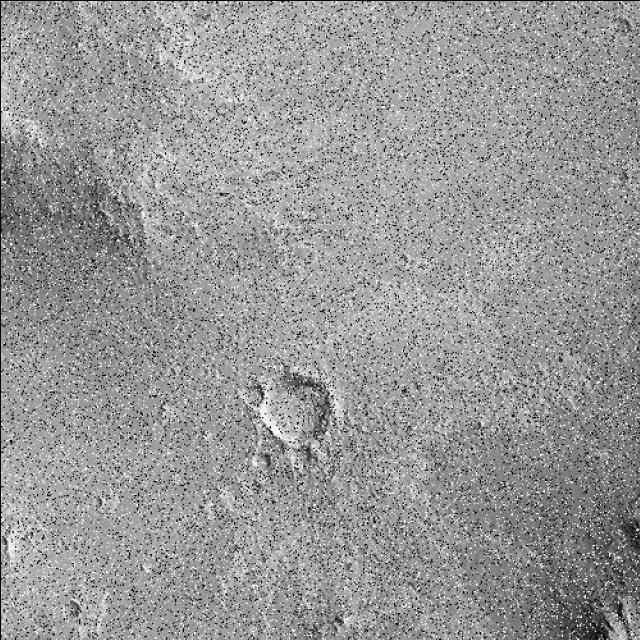crater: (242, 361, 350, 449), (278, 425, 326, 476), (230, 369, 270, 417), (238, 436, 280, 478), (596, 10, 634, 50), (602, 166, 640, 194), (50, 592, 81, 626), (230, 192, 264, 219), (226, 472, 264, 496), (188, 422, 220, 446), (573, 446, 607, 468), (142, 144, 170, 170), (74, 195, 104, 218), (386, 248, 414, 272), (619, 419, 640, 450), (492, 139, 520, 161), (86, 459, 112, 482), (624, 195, 640, 229), (624, 374, 640, 408), (624, 253, 640, 283), (627, 232, 640, 266), (627, 270, 640, 300), (472, 0, 502, 13), (624, 455, 640, 479), (626, 161, 640, 187), (61, 34, 80, 52), (626, 257, 640, 279), (619, 626, 640, 640), (38, 65, 54, 83), (627, 160, 640, 182), (627, 88, 640, 108), (627, 630, 640, 640)
